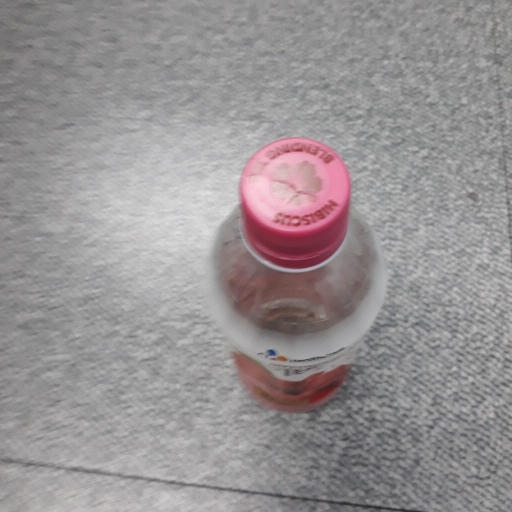Plastic_0: (204, 139, 392, 413)
